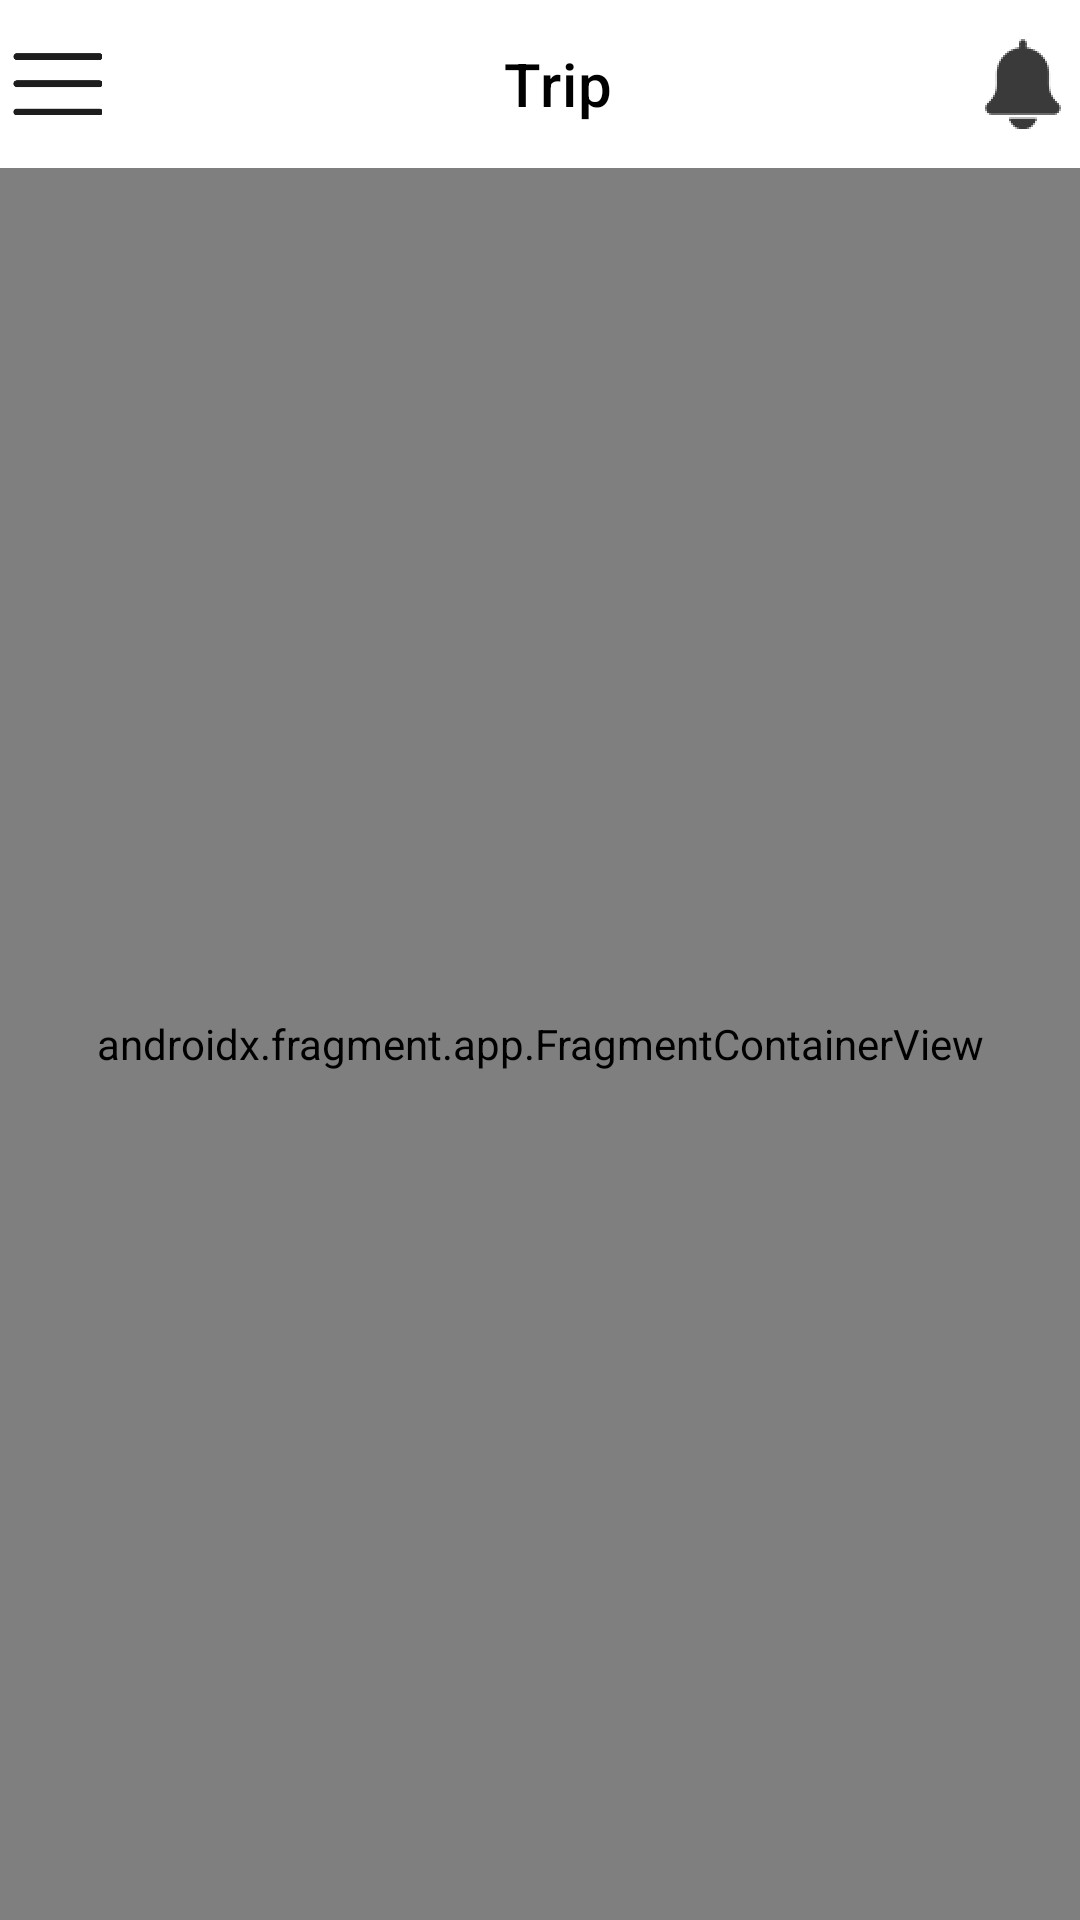

Icons on this 1080 x 1920 Android screen, each with its box as (x1, y1, x2, y2):
menu: (13, 53, 102, 115)
notifcation: (985, 39, 1061, 129)
